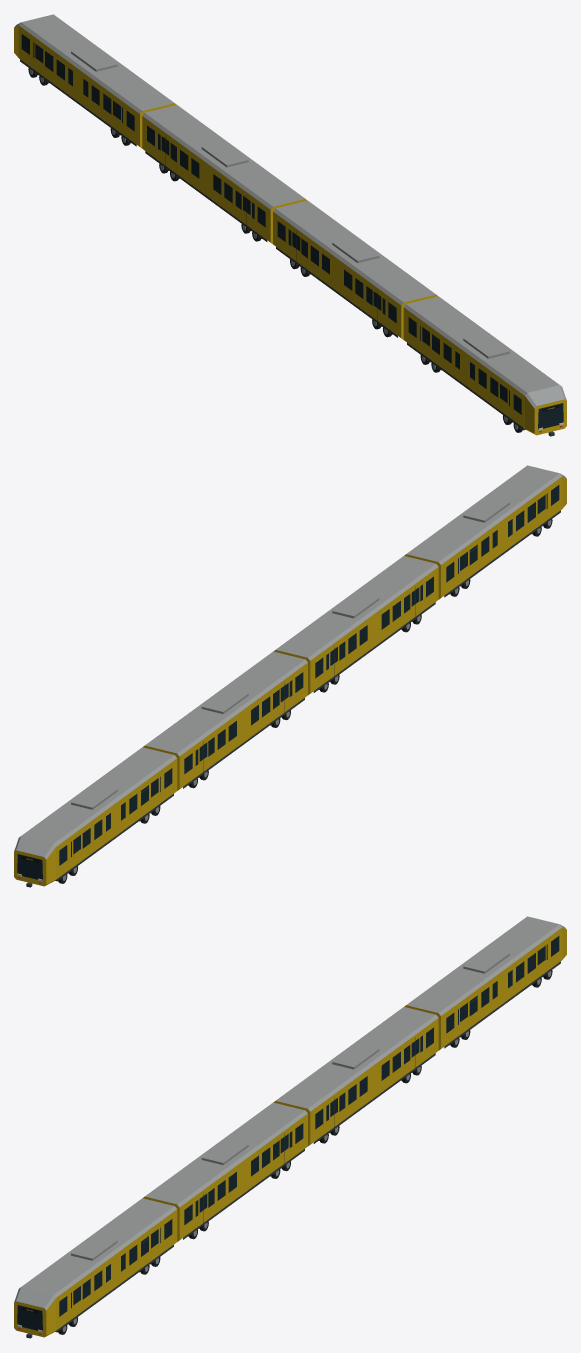
The model's file is ubahn-j.glb.
3 renders of one model, top to bottom at view 1: azimuth 30°, elevation 25°; view 2: azimuth 150°, elevation 25°; view 3: azimuth 330°, elevation 25°, orthographic.
Visible parts, largest first — view 1: ubahn-j.segment-01.005, ubahn-j.segment-03.005, ubahn-j.segment-02.005, ubahn-j.segment-04.005; view 2: ubahn-j.segment-04.005, ubahn-j.segment-02.005, ubahn-j.segment-03.005, ubahn-j.segment-01.005; view 3: ubahn-j.segment-01.005, ubahn-j.segment-03.005, ubahn-j.segment-02.005, ubahn-j.segment-04.005.
Boxes of the visible parts, box(x1,y1,x2,y2) form: ubahn-j.segment-01.005: box(403, 296, 566, 436); ubahn-j.segment-03.005: box(142, 105, 307, 243); ubahn-j.segment-02.005: box(273, 200, 437, 339); ubahn-j.segment-04.005: box(14, 14, 176, 148); ubahn-j.segment-04.005: box(14, 747, 177, 887); ubahn-j.segment-02.005: box(273, 556, 438, 694); ubahn-j.segment-03.005: box(143, 651, 307, 790); ubahn-j.segment-01.005: box(404, 465, 566, 599); ubahn-j.segment-01.005: box(14, 1198, 177, 1338); ubahn-j.segment-03.005: box(273, 1007, 438, 1145); ubahn-j.segment-02.005: box(143, 1102, 307, 1241); ubahn-j.segment-04.005: box(404, 916, 566, 1050).
Bounding box in the file's own units: 2.7 × 3.38 × 64.64.
